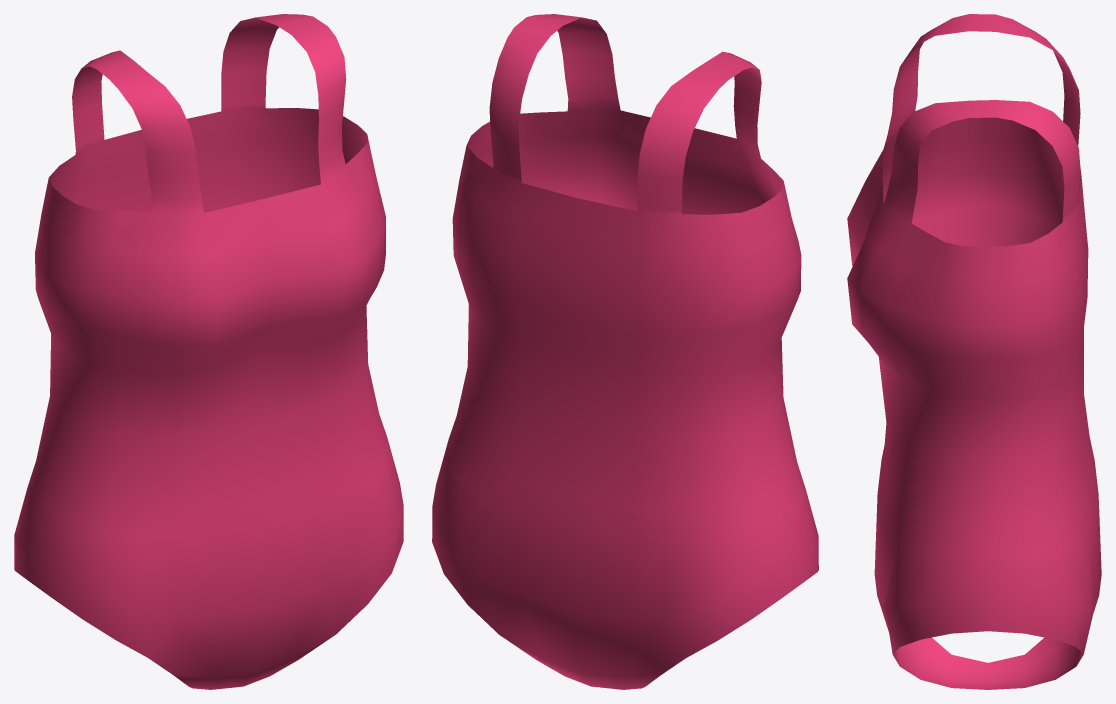
File: one_piece_swimsuit.glb
The picture shows the model from 3 angles, left to right: view 1: azimuth 30°, elevation 25°; view 2: azimuth 150°, elevation 25°; view 3: azimuth 270°, elevation 25°; orthographic projection. The views are drawn at different scales.
Parts seen in each view (by area): view 1: One-Piece Swimsuit; view 2: One-Piece Swimsuit; view 3: One-Piece Swimsuit.
Part boxes in pixels (x1=…): One-Piece Swimsuit: x1=14, y1=14, x2=403, y2=689; One-Piece Swimsuit: x1=432, y1=14, x2=818, y2=689; One-Piece Swimsuit: x1=847, y1=14, x2=1101, y2=689.
Bounding box in the file's own units: 1.3 × 2.17 × 0.811.
Materials: 1 (1 with a texture image).
